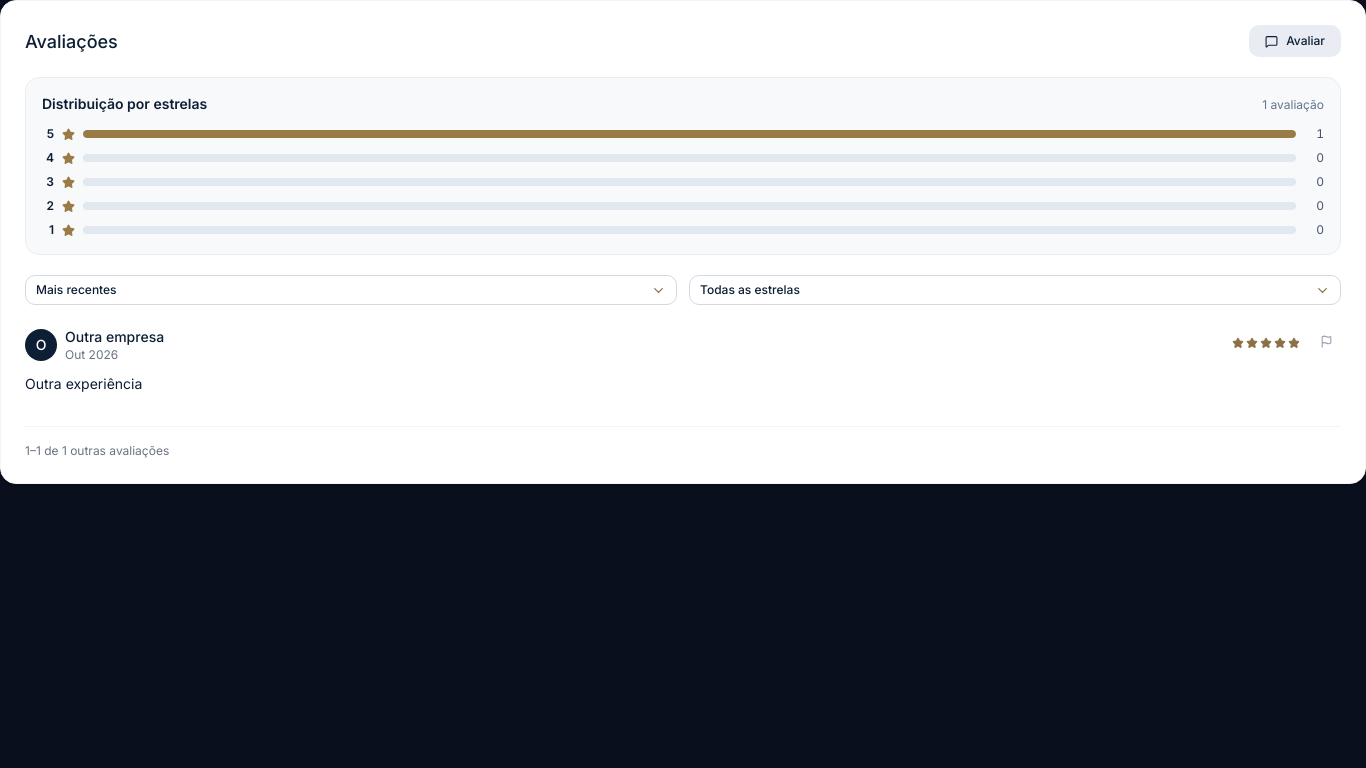
Test: Contador do comentário da avaliação › a descrição acessível do comentário inclui o contador e, com erro, também o erro
Click the button "Avaliar" at (1295, 41), box x1=1249 y1=25 x2=1341 y2=57
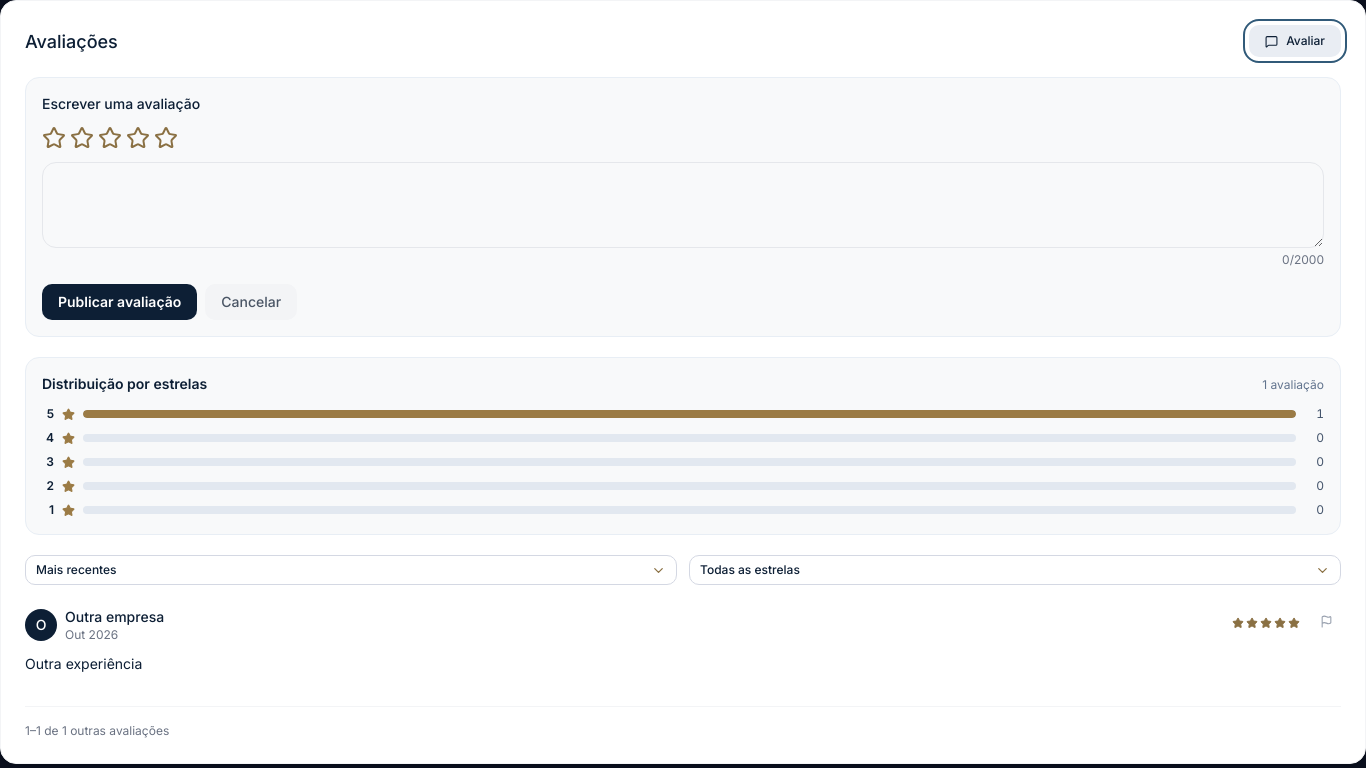
Click the radio button named "4 estrelas" at (138, 138), box x1=126 y1=126 x2=150 y2=150
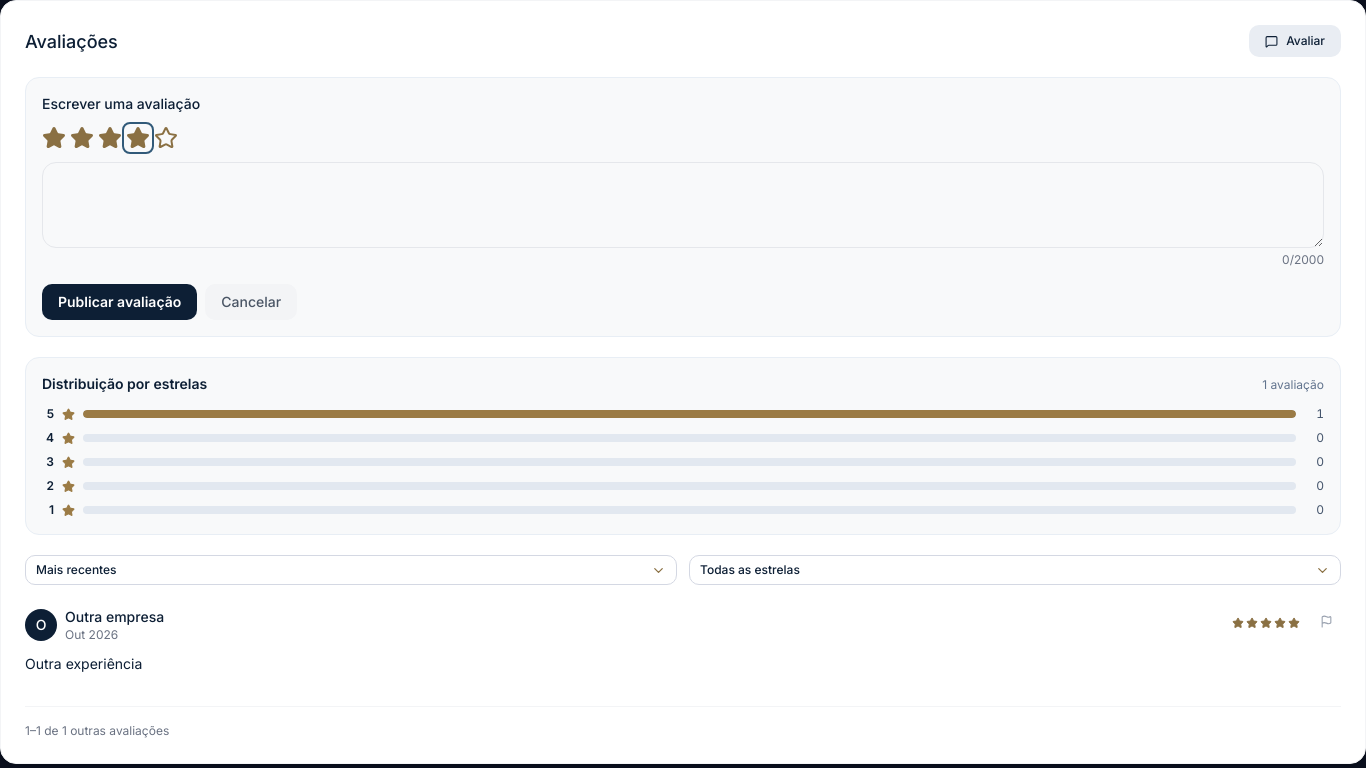
Click the button "Publicar avaliação" at (120, 302), box x1=42 y1=284 x2=197 y2=320
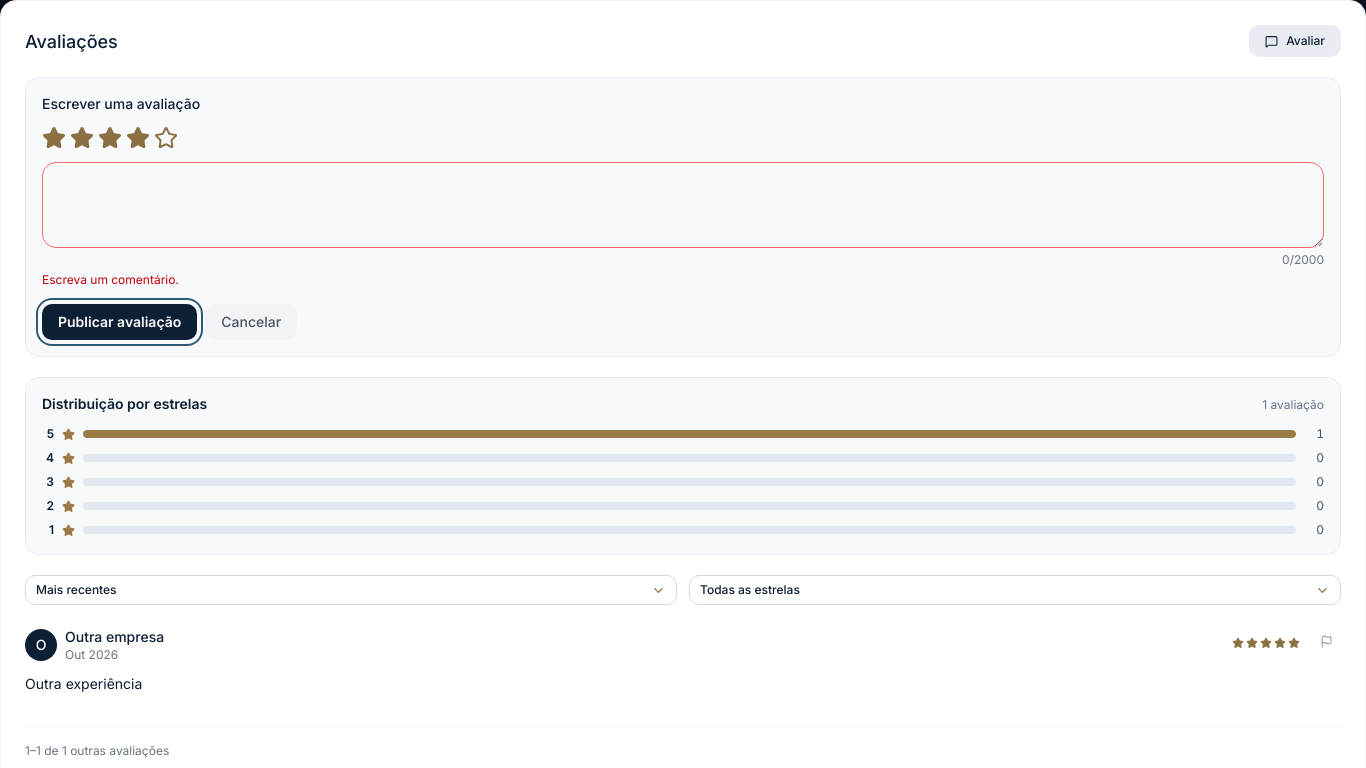
Now the text "Escreva um comentário." is shown, box x1=42 y1=272 x2=179 y2=287
